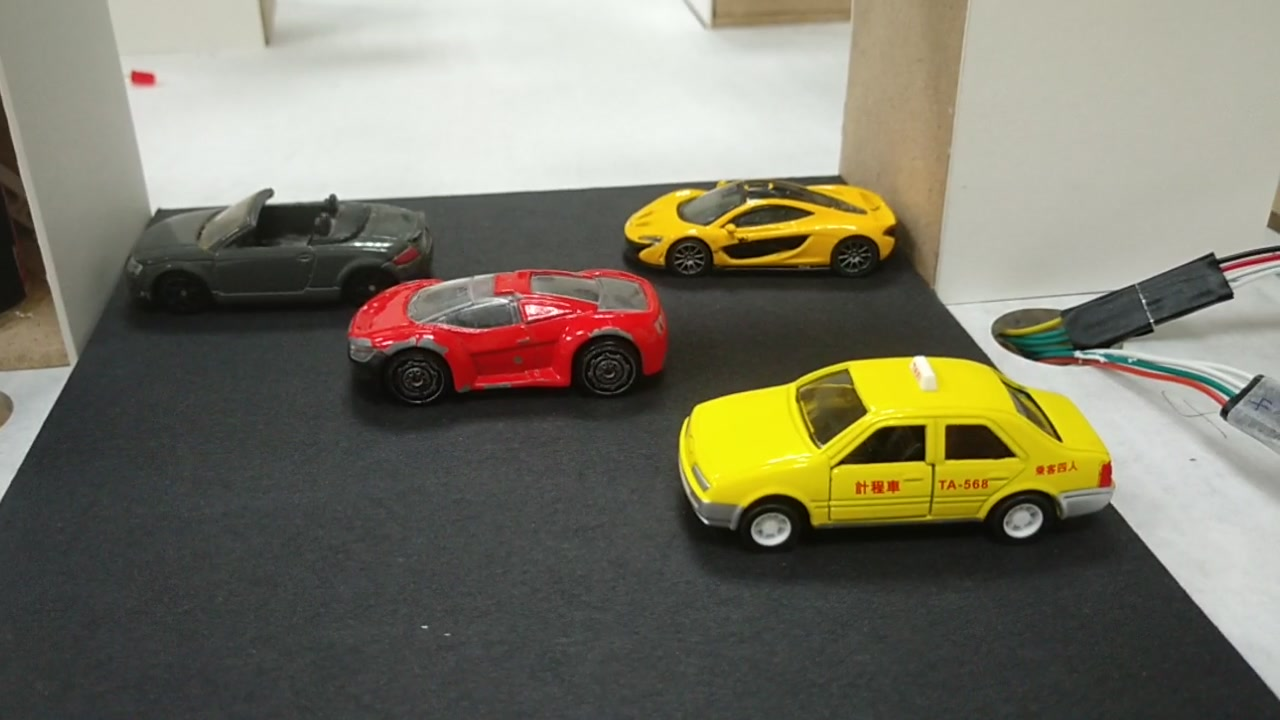car: (673, 357, 1112, 542), (359, 266, 665, 391), (132, 202, 439, 306), (619, 181, 895, 277)
